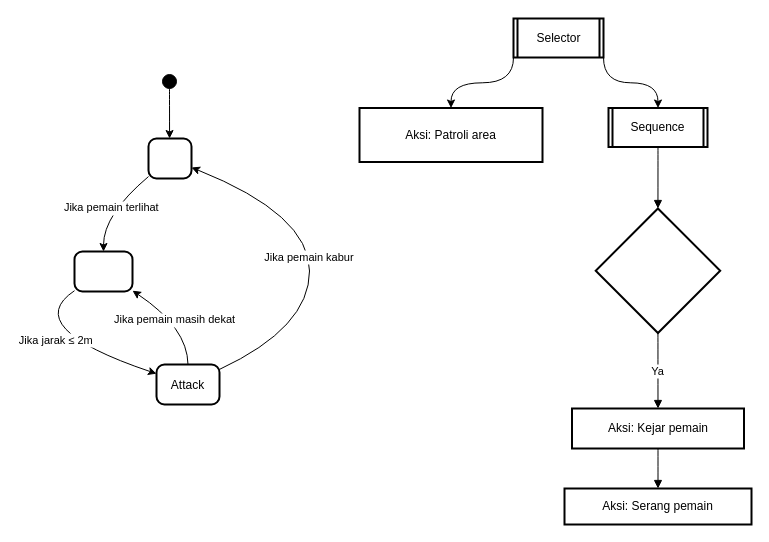
The diagram is 769 pixels wide and 542 high, and some of its shapes have lost their labels. Each missing label, with the box of its shape:
Chase: (73, 250, 133, 292)
Idle: (147, 137, 192, 179)
Kondisi: Pemain terlihat?: (594, 207, 721, 334)
